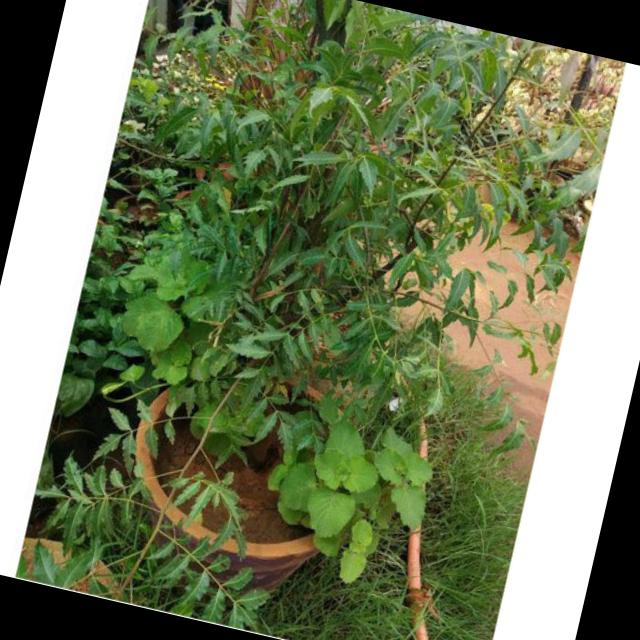Medicinal-Neem: (227, 107, 480, 321)
